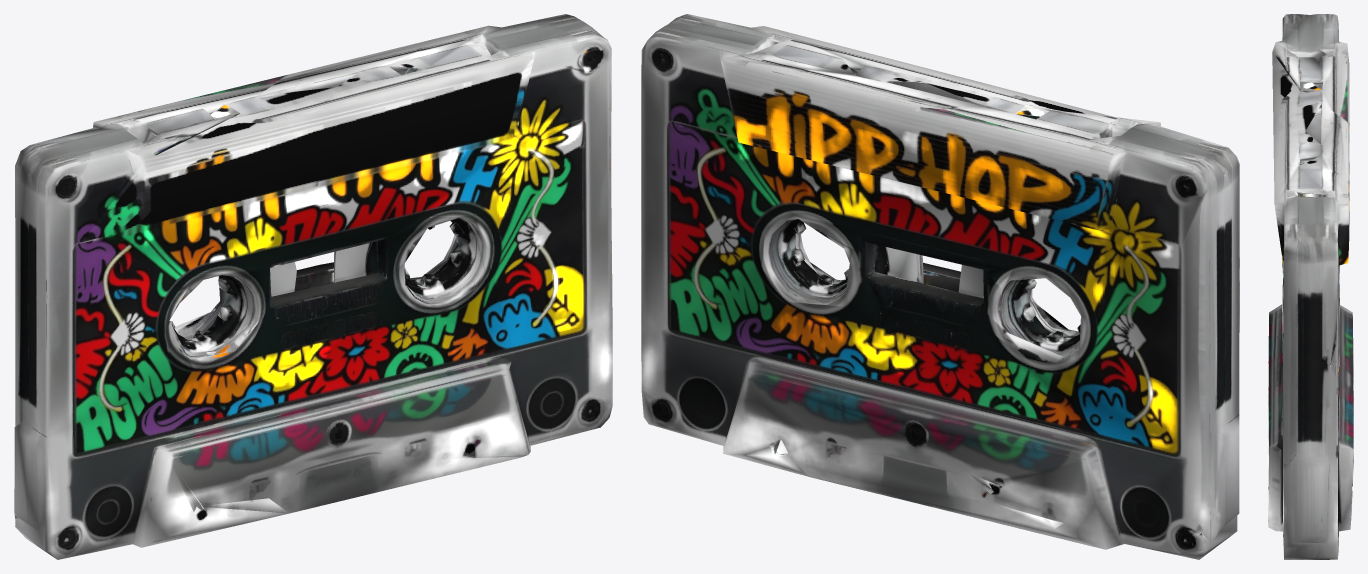
The model's file is tape.glb.
3 views of the same model, side by side, from view 1: azimuth 30°, elevation 25°; view 2: azimuth 150°, elevation 25°; view 3: azimuth 270°, elevation 25° (orthographic). The views are drawn at different scales.
Parts seen in each view (by area): view 1: Mesh1.0; view 2: Mesh1.0; view 3: Mesh1.0.
Boxes of the visible parts, bbox=[...] form: Mesh1.0: bbox=[14, 14, 612, 559]; Mesh1.0: bbox=[641, 14, 1239, 559]; Mesh1.0: bbox=[1268, 14, 1353, 559].
Bounding box in the file's own units: 1.92 × 1.25 × 0.2927.
Materials: 1 (1 with a texture image).
